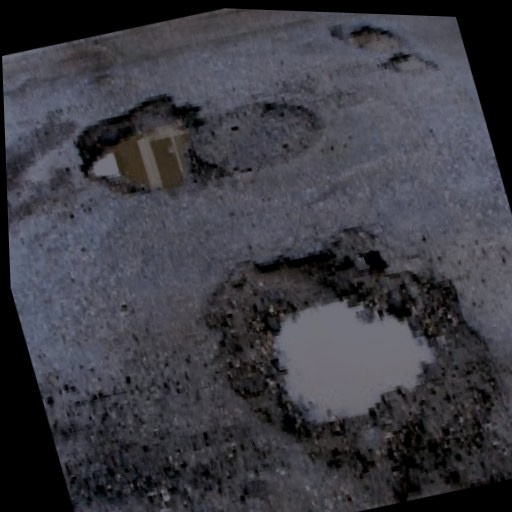pothole: (185, 198, 512, 512), (60, 74, 234, 216), (326, 12, 400, 66), (378, 41, 441, 86)
